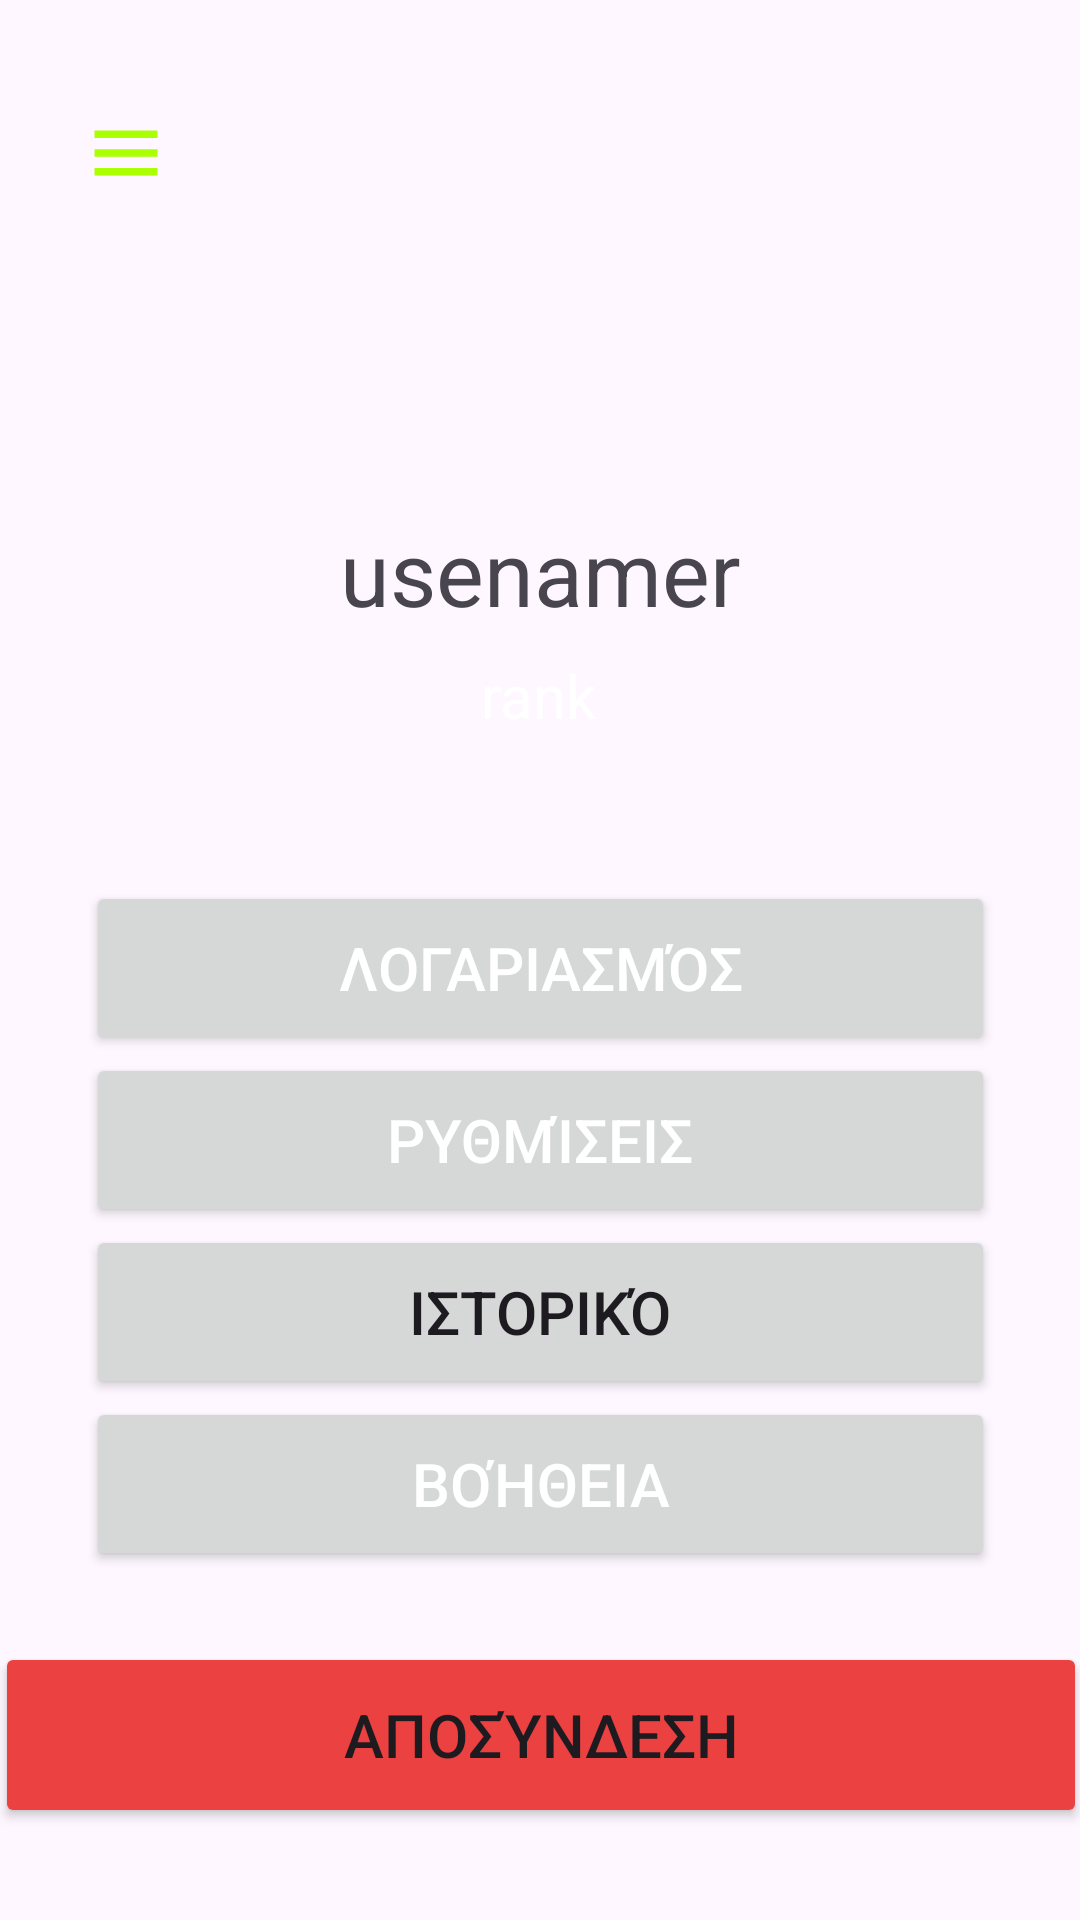

Screen size 1080w x 1920h. Icon name, then its box in pixels as (x1, y1, x2, y2):
Menu: (94, 130, 158, 176)
